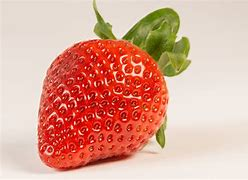Fresa: (35, 29, 171, 169)
